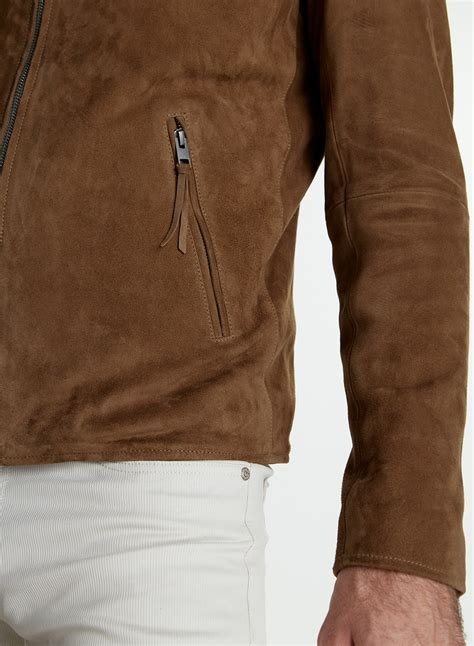gamuza: (1, 1, 466, 595)
